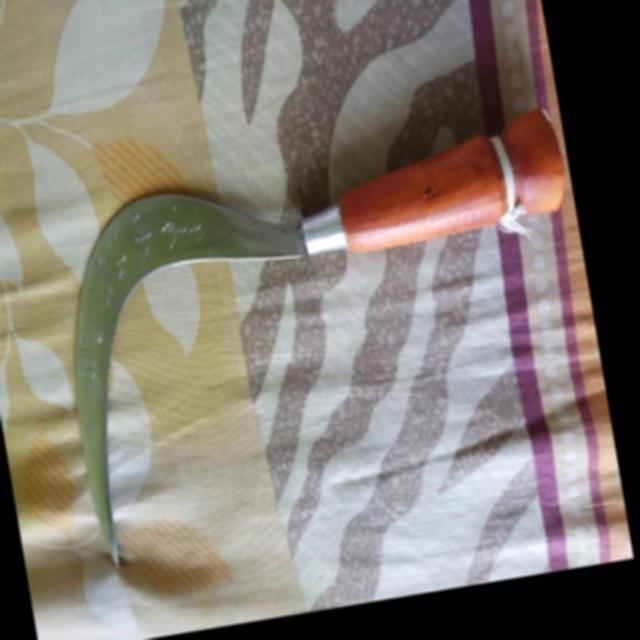Sharp-Object: (38, 114, 613, 575)
